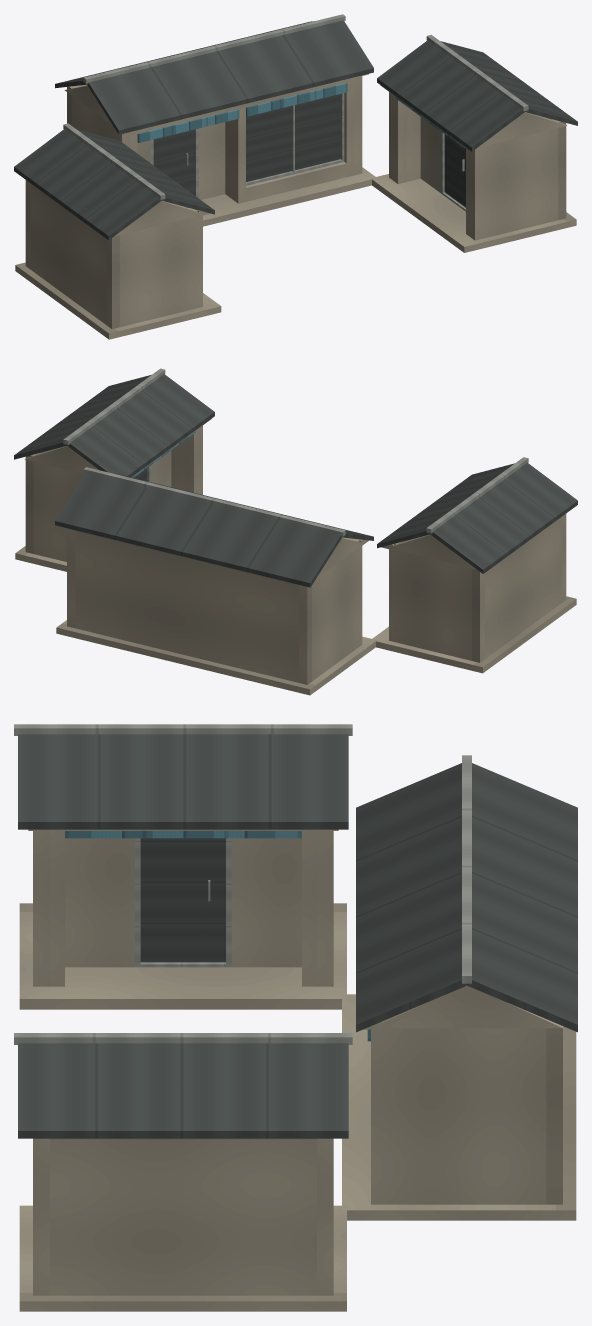
3 renders of one model, top to bottom at view 1: azimuth 30°, elevation 25°; view 2: azimuth 150°, elevation 25°; view 3: azimuth 270°, elevation 25°, orthographic. The views are drawn at different scales.
Parts seen in each view (by area): view 1: taipei; view 2: taipei; view 3: taipei.
Part boxes in pixels (x1,y1,x2,y2): taipei: (14,14,577,339); taipei: (14,368,577,695); taipei: (14,724,577,1311).
Bounding box in the file's own units: 8.6 × 2.48 × 5.14.
1 material, 1 textured.
